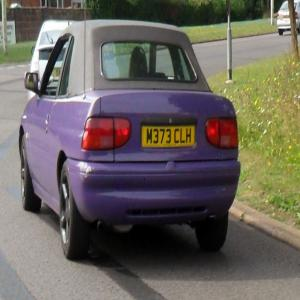Vehicle-registration-plate: (143, 117, 198, 160)
